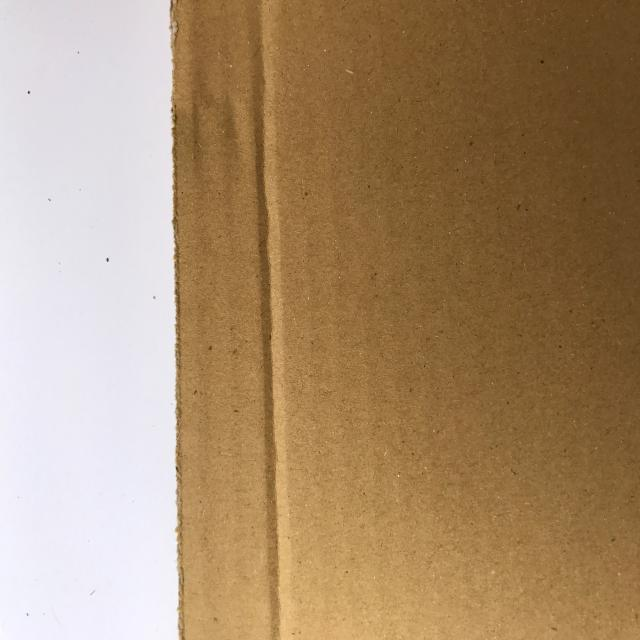cardboard: (163, 0, 640, 640)
